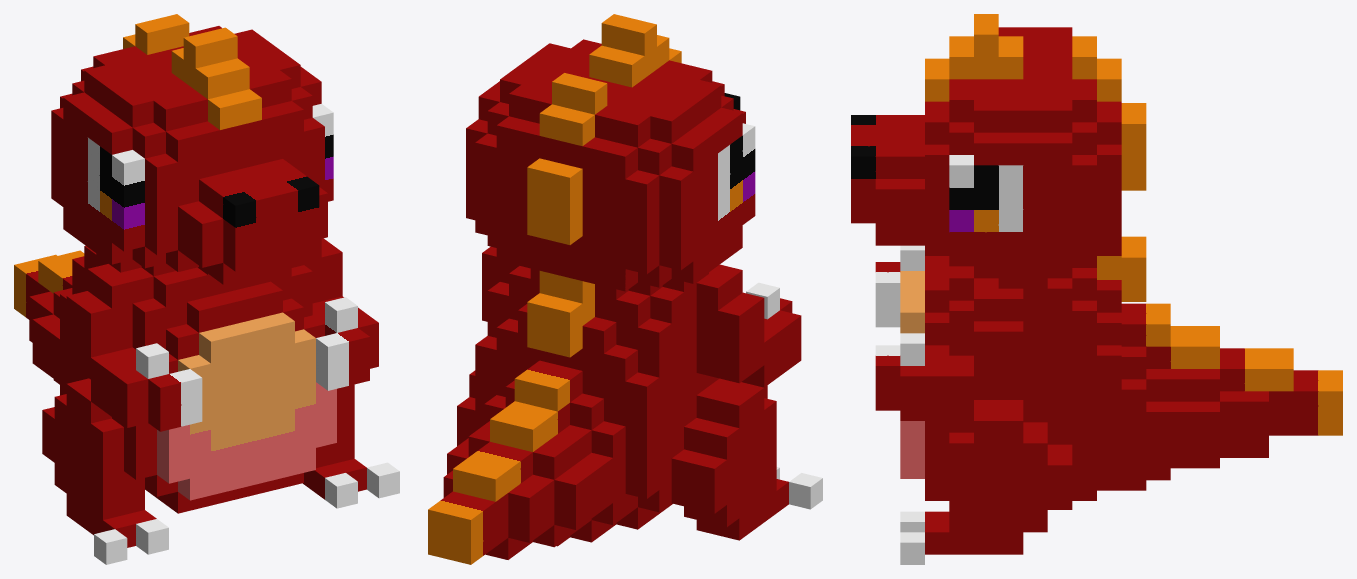
Rendered from red_mini.gltf.
3 views of the same model, side by side, from view 1: azimuth 30°, elevation 25°; view 2: azimuth 150°, elevation 25°; view 3: azimuth 270°, elevation 25° (orthographic). The views are drawn at different scales.
Visible parts, largest first — view 1: mini zilla v4 2-Mesh; view 2: mini zilla v4 2-Mesh; view 3: mini zilla v4 2-Mesh.
Boxes of the visible parts, bbox=[...] form: mini zilla v4 2-Mesh: bbox=[14, 14, 399, 564]; mini zilla v4 2-Mesh: bbox=[428, 14, 822, 564]; mini zilla v4 2-Mesh: bbox=[851, 14, 1342, 564].
Size of the model in its own units: 14 by 21 by 20.
1 material, 1 textured.
